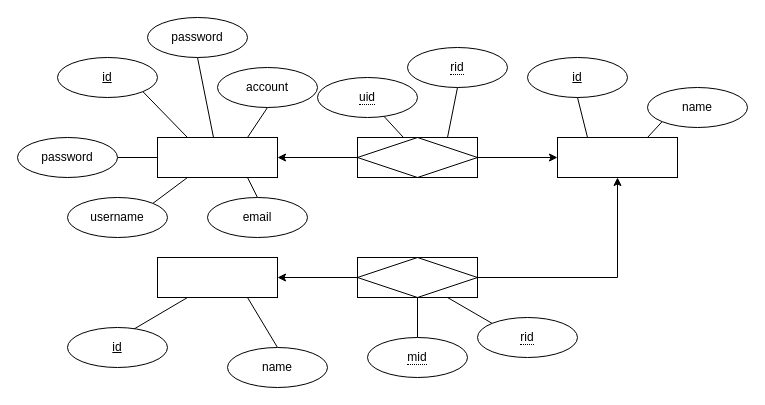
Image size: 765x405. Some labels were removed from this diagram. Each missing label, with the box of its shape:
menu: (156, 256, 278, 298)
role: (556, 136, 678, 178)
role-menu: (356, 256, 478, 298)
user: (156, 136, 278, 178)
user-role: (356, 136, 478, 178)
